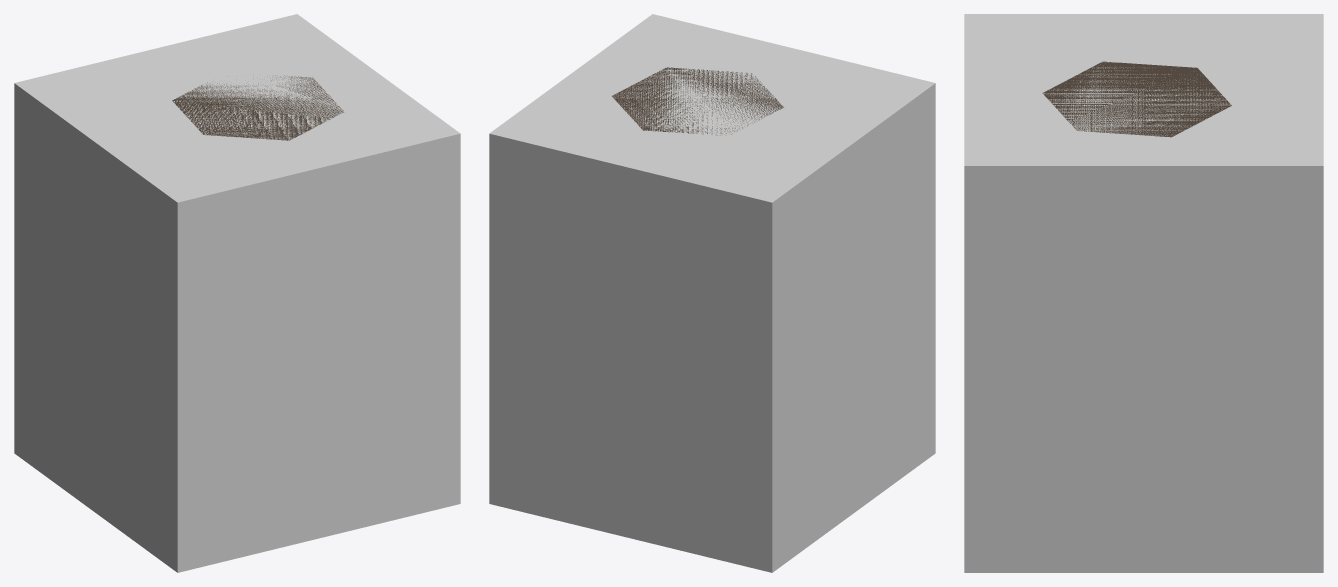
The model's file is anchor_basalt_b.glb.
3 views of the same model, side by side, from view 1: azimuth 30°, elevation 25°; view 2: azimuth 150°, elevation 25°; view 3: azimuth 270°, elevation 25° (orthographic). The views are drawn at different scales.
Visible parts, largest first — view 1: anchor_basalt_b-col, anchor_basalt_b; view 2: anchor_basalt_b-col, anchor_basalt_b; view 3: anchor_basalt_b-col, anchor_basalt_b.
Boxes of the visible parts, x1=… form: anchor_basalt_b-col: x1=14, y1=14, x2=460, y2=572; anchor_basalt_b: x1=172, y1=75, x2=343, y2=140; anchor_basalt_b-col: x1=489, y1=14, x2=935, y2=572; anchor_basalt_b: x1=612, y1=67, x2=783, y2=135; anchor_basalt_b-col: x1=964, y1=14, x2=1323, y2=572; anchor_basalt_b: x1=1042, y1=61, x2=1231, y2=137.
Size of the model in its own units: 8 by 10 by 8.
